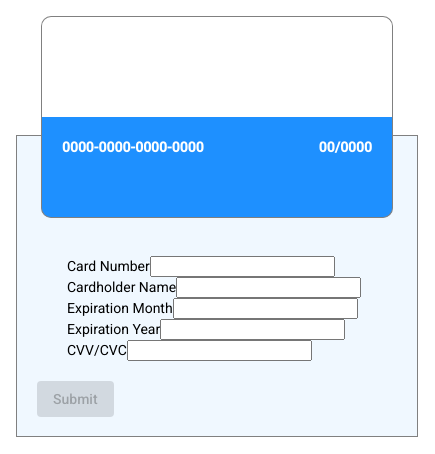
it: Month input › TC01 - when input only one number show error massage
Type "5" into the number field with id "month-input".
click(266, 309); type("5")  # box left=173, top=298, right=358, bottom=319
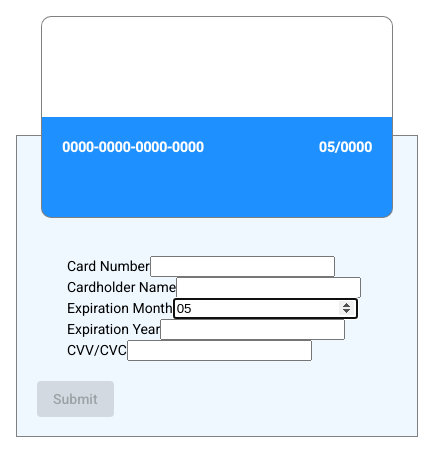
Check: the number field with id "month-input" holds "05", box left=173, top=298, right=358, bottom=319
